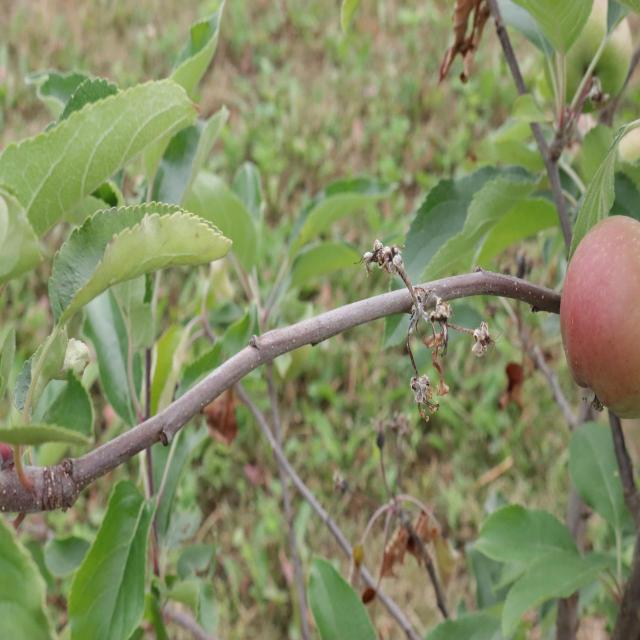-FireBlight-: (370, 500, 452, 582), (206, 393, 248, 458)
